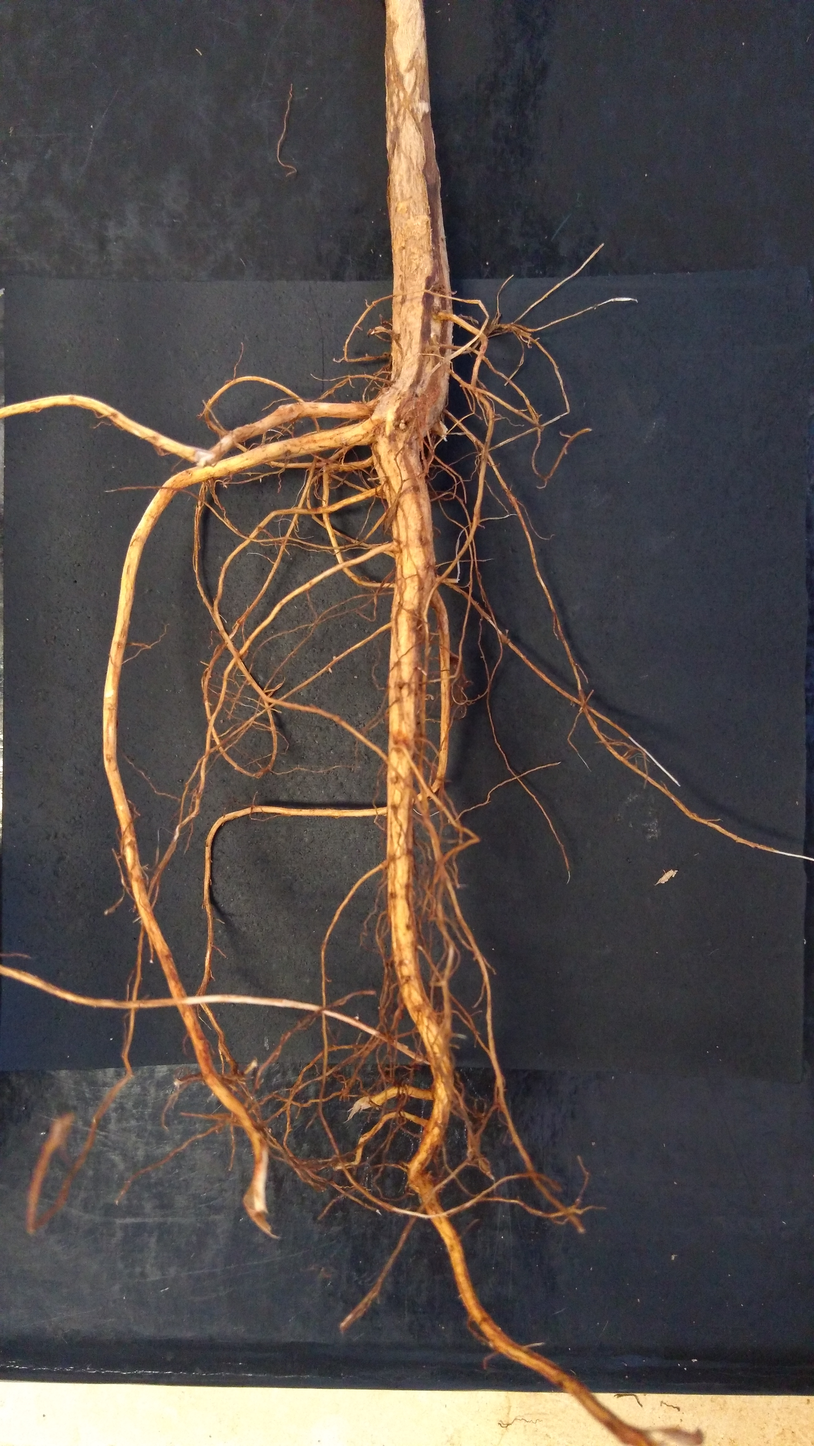nodule: (478, 1156, 491, 1174), (467, 1148, 479, 1164), (399, 422, 406, 430), (400, 419, 406, 424), (332, 656, 336, 660)
